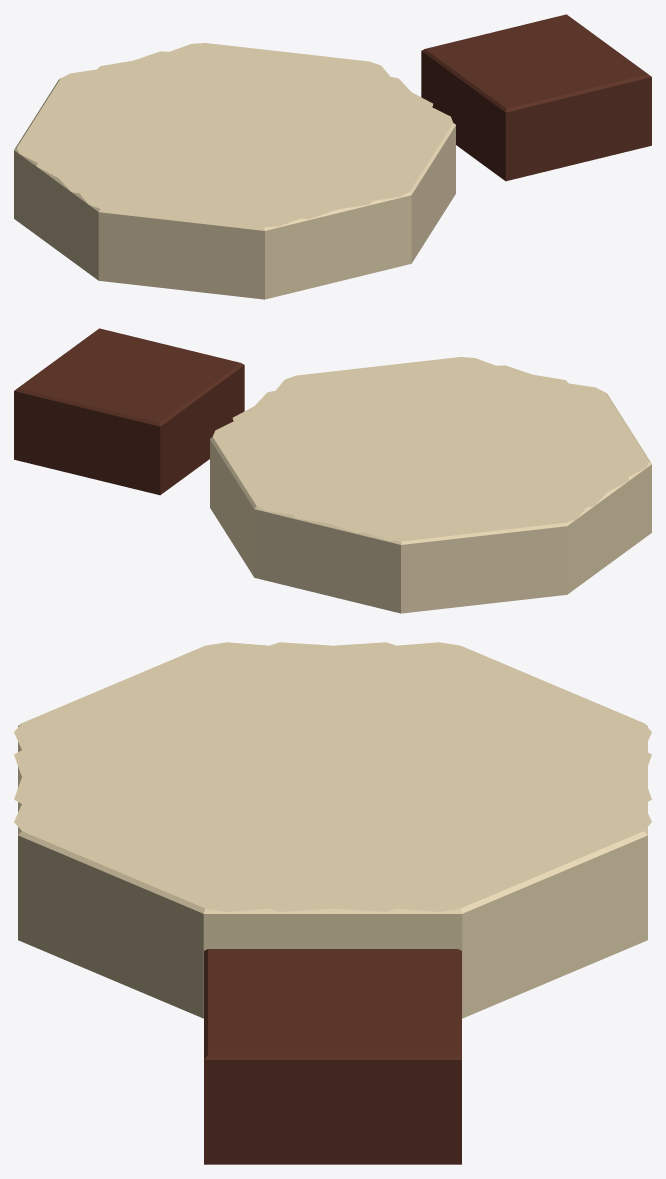
File: mahsulot.glb
The picture shows the model from 3 angles, top to bottom: view 1: azimuth 30°, elevation 25°; view 2: azimuth 150°, elevation 25°; view 3: azimuth 270°, elevation 25°; orthographic projection. The views are drawn at different scales.
Visible parts, largest first — view 1: mahsulot_A, mahsulot_B; view 2: mahsulot_A, mahsulot_B; view 3: mahsulot_A, mahsulot_B.
Part boxes in pixels (x1,y1,x2,y2): mahsulot_A: (14, 43, 455, 299); mahsulot_B: (421, 14, 651, 181); mahsulot_A: (210, 357, 651, 613); mahsulot_B: (14, 328, 244, 495); mahsulot_A: (14, 642, 651, 1018); mahsulot_B: (204, 949, 461, 1164).
Size of the model in its own units: 0.3685 by 0.045 by 0.24.
